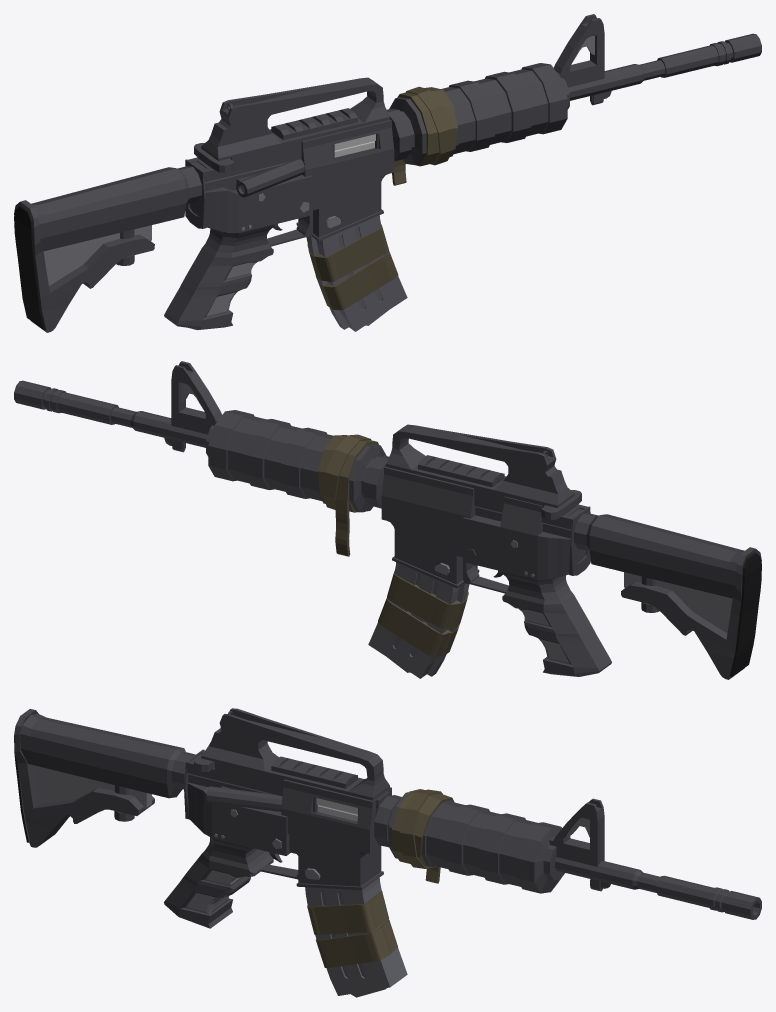
File: low-poly_m4_assault_rifle.glb
3 views of the same model, one above another, from view 1: azimuth 30°, elevation 25°; view 2: azimuth 150°, elevation 25°; view 3: azimuth 330°, elevation 25° (orthographic).
Visible parts, largest first — view 1: Cube.001; view 2: Cube.001; view 3: Cube.001.
Boxes of the visible parts, x1,y1,x2,y2 form: Cube.001: (14, 14, 761, 332); Cube.001: (14, 361, 761, 679); Cube.001: (14, 708, 761, 997).
Bounding box in the file's own units: 11.91 × 3.9 × 1.12.
